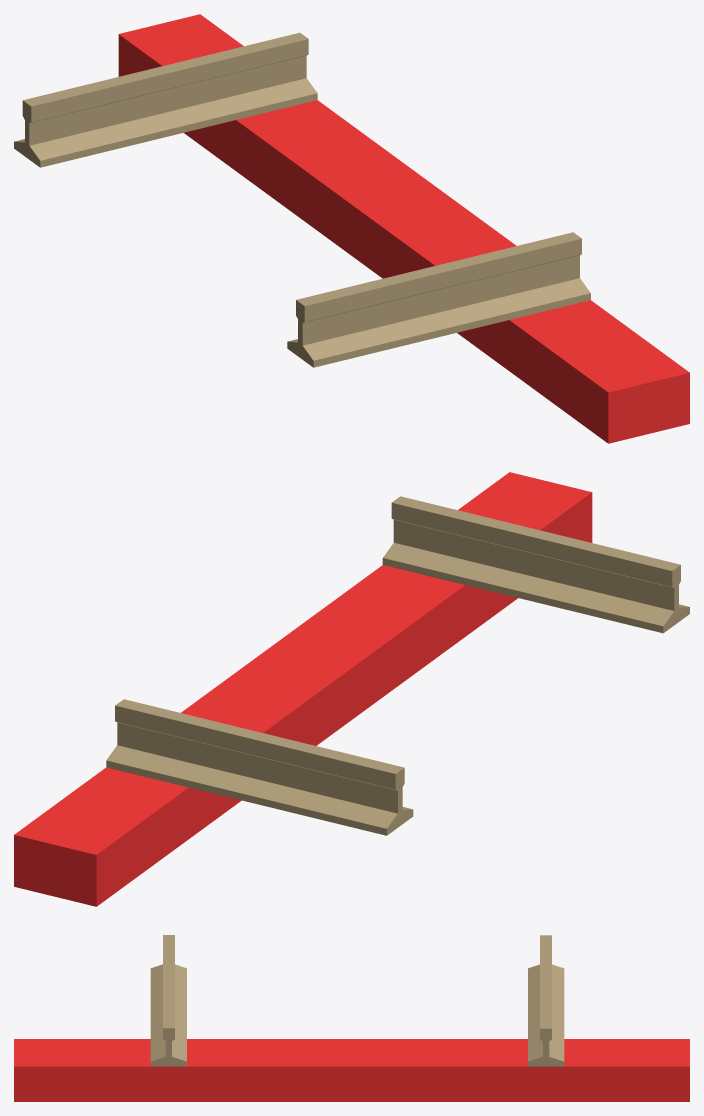
Rendered from RailRoad.fbx.
3 views of the same model, one above another, from view 1: azimuth 30°, elevation 25°; view 2: azimuth 150°, elevation 25°; view 3: azimuth 270°, elevation 25° (orthographic). The views are drawn at different scales.
Visible parts, largest first — view 1: Box003; view 2: Box003; view 3: Box003.
Boxes of the visible parts, box(x1,y1,x2,y2) form: Box003: box(14, 14, 689, 443); Box003: box(14, 472, 689, 906); Box003: box(14, 935, 689, 1101).
Bounding box in the file's own units: 84.99 × 31.14 × 260.
